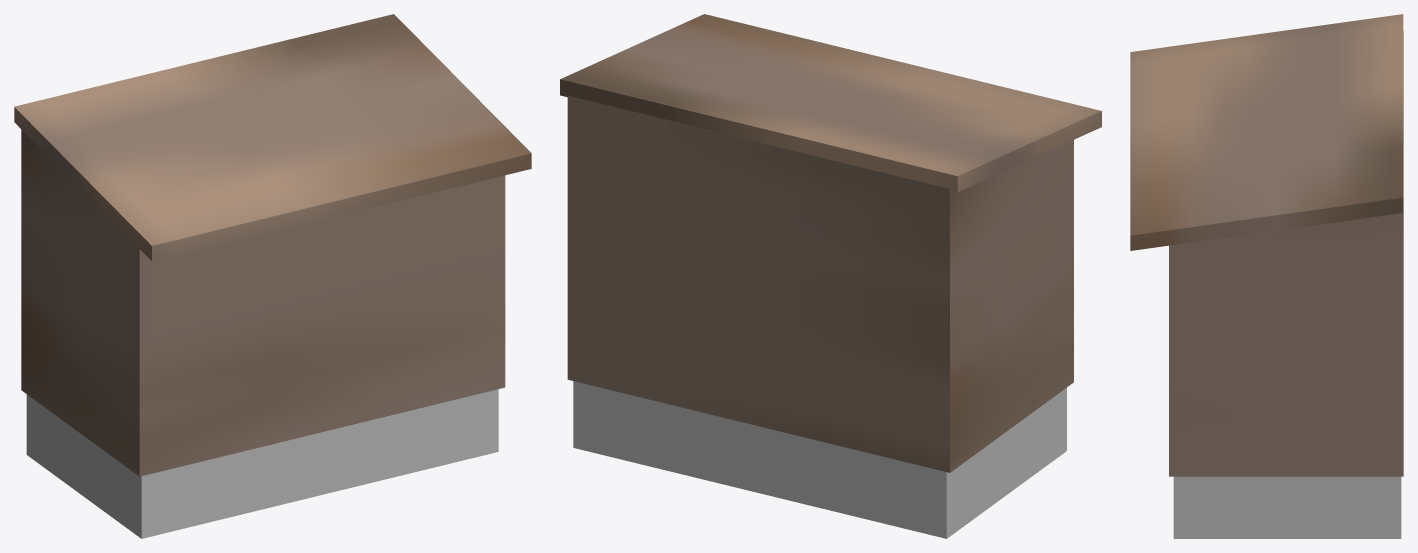
The model's file is trashbox.fbx.
3 views of the same model, side by side, from view 1: azimuth 30°, elevation 25°; view 2: azimuth 150°, elevation 25°; view 3: azimuth 270°, elevation 25° (orthographic). The views are drawn at different scales.
Parts seen in each view (by area): view 1: trashbox; view 2: trashbox; view 3: trashbox.
Part boxes in pixels (box(x1,y1,x2,y2)): trashbox: box(14, 14, 531, 538); trashbox: box(560, 14, 1101, 538); trashbox: box(1130, 14, 1403, 538).
Bounding box in the file's own units: 0.7143 × 0.6295 × 0.4492.
